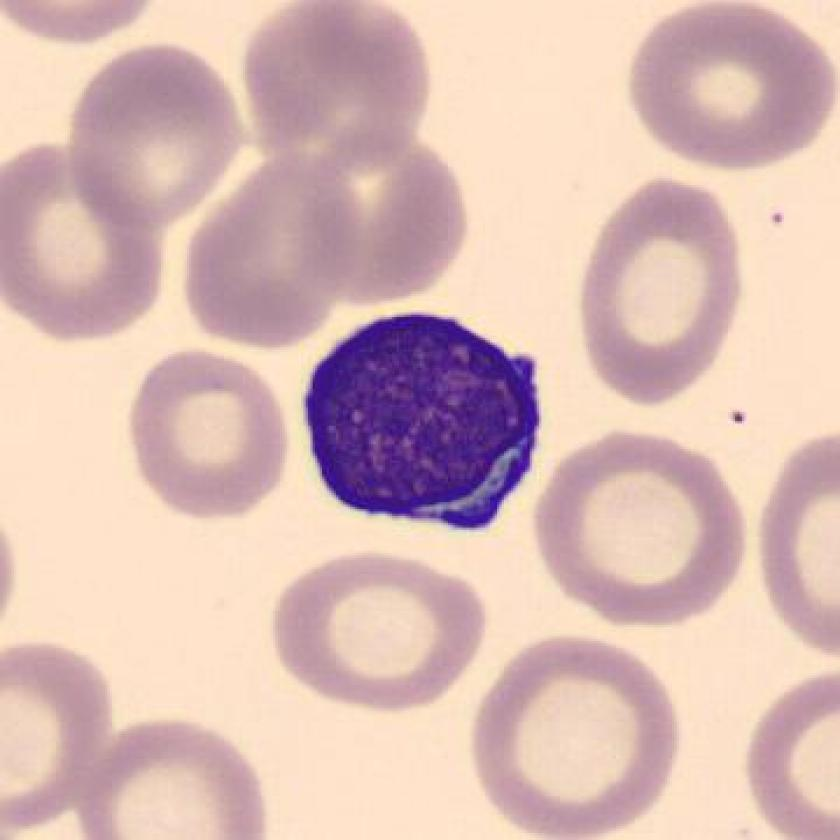lymphocyte: (286, 293, 561, 550)
